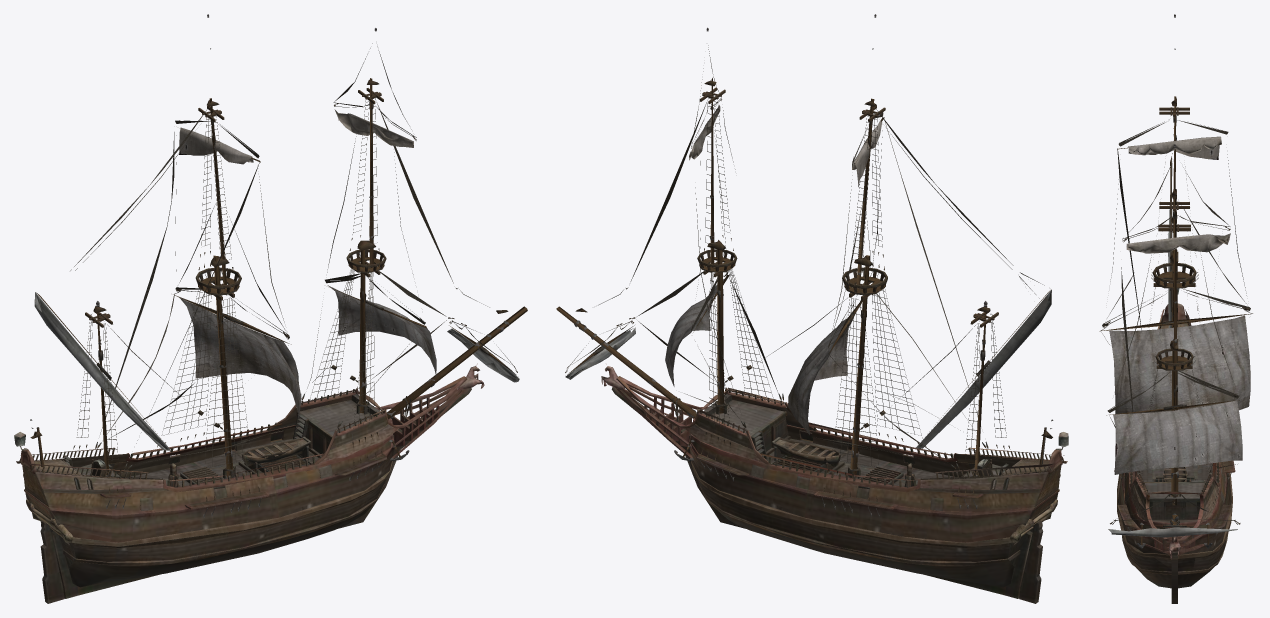
The model's file is dutch_ship.glb.
3 renders of one model, left to right at view 1: azimuth 30°, elevation 25°; view 2: azimuth 150°, elevation 25°; view 3: azimuth 270°, elevation 25°, orthographic. The views are drawn at different scales.
Parts seen in each view (by area): view 1: dutch_ship_medium_hull, dutch_ship_medium_rigging, dutch_ship_medium_sails; view 2: dutch_ship_medium_hull, dutch_ship_medium_rigging, dutch_ship_medium_sails; view 3: dutch_ship_medium_sails, dutch_ship_medium_hull, dutch_ship_medium_rigging.
Boxes of the visible parts, x1,y1,x2,y2 form: dutch_ship_medium_hull: (14,363,484,603); dutch_ship_medium_rigging: (30,14,527,517); dutch_ship_medium_sails: (179,109,436,418); dutch_ship_medium_hull: (601,364,1068,603); dutch_ship_medium_rigging: (556,14,1053,517); dutch_ship_medium_sails: (665,105,882,434); dutch_ship_medium_sails: (1109,136,1250,474); dutch_ship_medium_hull: (1114,288,1235,603); dutch_ship_medium_rigging: (1099,14,1252,548).
Size of the model in its own units: 24.05 by 24.66 by 6.79.
3 materials, 3 textured.
